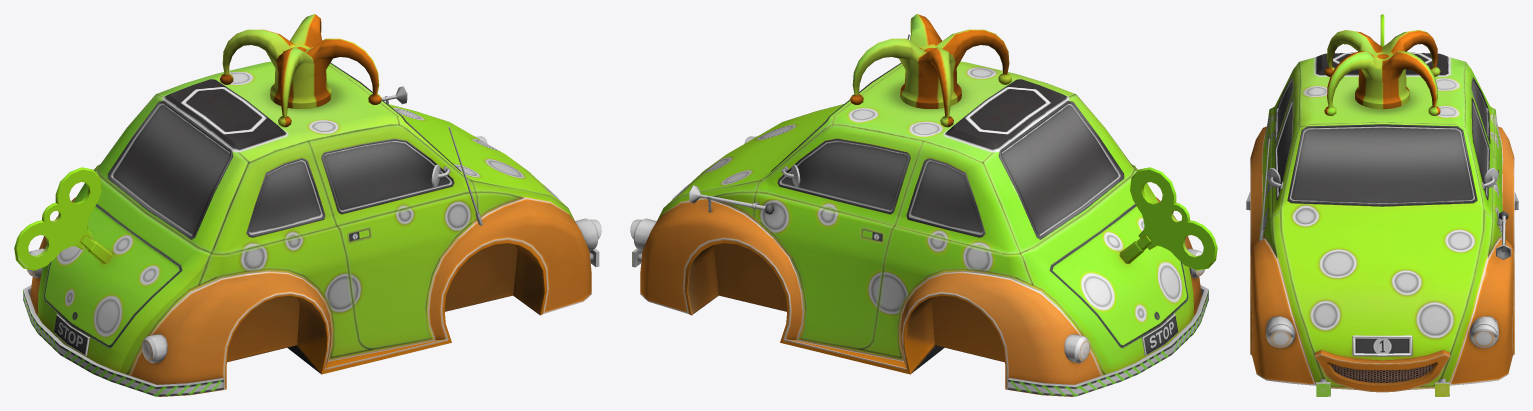
Rendered from f1_car_clown_05.dae.
3 views of the same model, side by side, from view 1: azimuth 30°, elevation 25°; view 2: azimuth 150°, elevation 25°; view 3: azimuth 270°, elevation 25° (orthographic). The views are drawn at different scales.
Parts seen in each view (by area): view 1: car_body; view 2: car_body; view 3: car_body.
Part boxes in pixels (x1,y1,x2,y2): car_body: (14,14,601,396); car_body: (630,14,1217,396); car_body: (1246,14,1518,396).
Size of the model in its own units: 0.4024 by 0.1936 by 0.1918.
1 material, 1 textured.
